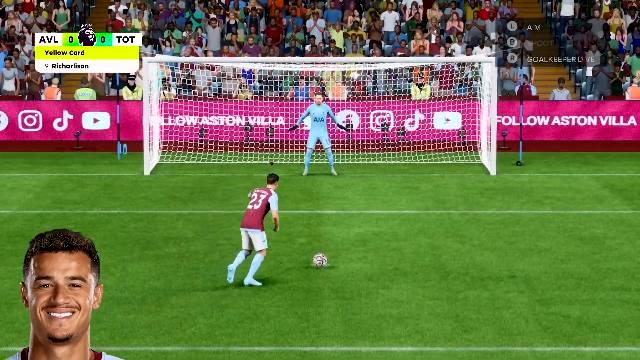bottom-left: (156, 128, 270, 180)
bottom-right: (371, 129, 484, 179)
center-down: (272, 129, 368, 179)
center-up: (272, 68, 366, 126)
football: (314, 253, 326, 265)
goalkeeper: (298, 96, 338, 182)
player: (227, 175, 286, 289)
top-left: (153, 68, 270, 126)
top-right: (369, 68, 487, 124)
